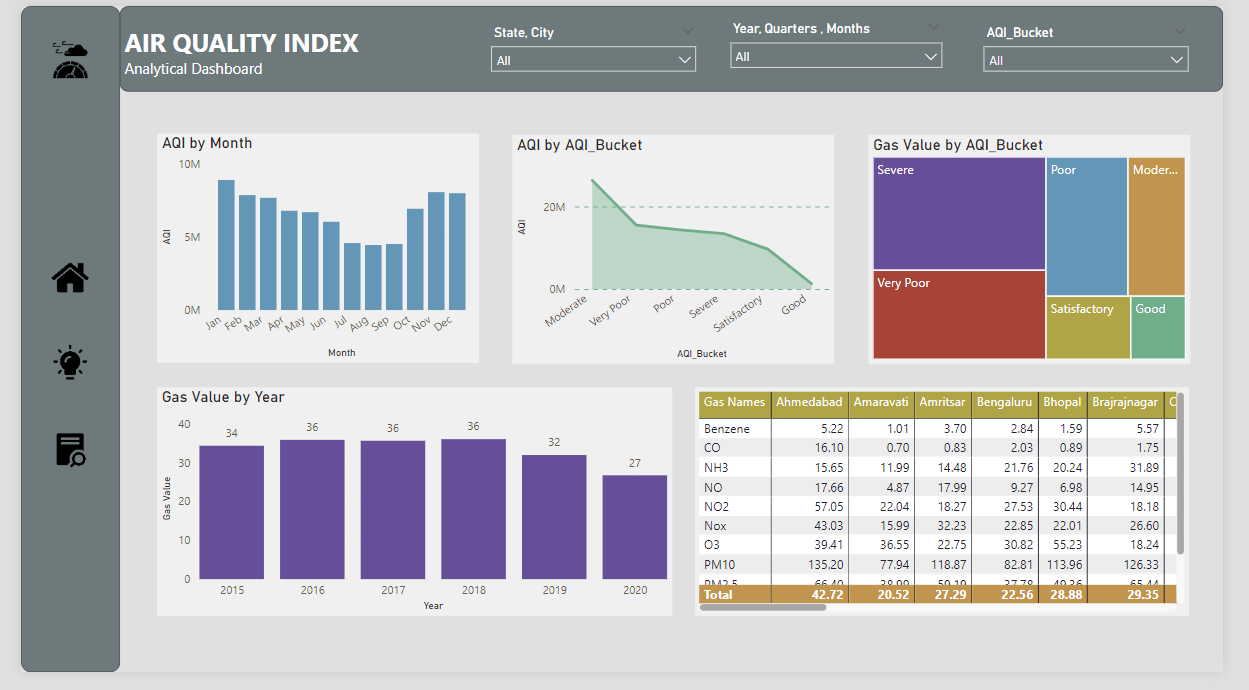

This screenshot's page, from the dashboard's own definition file:
{"tool":"powerbi","page":{"name":"Detailed View","canvas":[1300,720],"ordinal":2},"visuals":[{"type":"shape","box":[0,0,107.2,720.3],"z":0},{"type":"shape","box":[107.2,0,1192.8,92.8],"z":1000},{"type":"image","box":[28.4,32.4,50,51.4],"z":2000},{"type":"image","box":[28.8,268.8,50,50],"z":3000},{"type":"image","box":[28.8,360,50,51.2],"z":4000},{"type":"image","box":[28.8,455,50,50],"z":5000},{"type":"slicer","fields":{"Values":["Sheet1.State","Sheet1.City"]},"box":[495.1,11.1,249.4,70.4],"z":6000},{"type":"slicer","fields":{"Values":["Sheet1.Year","Sheet1.Quarters ","Sheet1.Months "]},"box":[756.8,11.1,249.4,70.4],"z":7000},{"type":"slicer","fields":{"Values":["Sheet1.AQI_Bucket"]},"box":[1027.2,11.1,249,70.4],"z":8000},{"type":"lineClusteredColumnComboChart","fields":{"Category":["Calendar.MonthSort"],"Y":["Sum(air_quality.AQI)"]},"box":[147.8,137.7,347.8,247.8],"z":9000},{"type":"stackedAreaChart","fields":{"Category":["air_quality.AQI_Bucket"],"Y":["Sum(air_quality.AQI)"]},"box":[530.4,139.1,347.8,247.8],"z":10000},{"type":"treemap","fields":{"Values":["measure.Average Gas Value"],"Group":["air_quality.AQI_Bucket"]},"box":[915.9,139.1,347.8,247.8],"z":11000},{"type":"textbox","box":[107.2,15.9,276.8,84.1],"z":12000},{"type":"clusteredColumnChart","fields":{"Category":["Calendar.Year"],"Y":["Avg(air_quality.Gas Value)"]},"box":[147.4,411.5,556.4,247.4],"z":13000},{"type":"pivotTable","fields":{"Rows":["air_quality.Gas Names"],"Columns":["air_quality.City"],"Values":["Avg(air_quality.Gas Value)"]},"box":[728.2,411.5,534.6,247.4],"z":14000},{"type":"textbox","box":[0,191.2,117.5,77.5],"z":15000}]}

Visuals, with their boxes on the page's 1300x720 design canvas (x1, y1, x2, y2). These are canvas units, not pixel positions in the 1249x690 screenshot, which may show the page scaled, cropped or inside an application window:
shape: box(0, 0, 107, 720)
shape: box(107, 0, 1300, 93)
image: box(28, 32, 78, 84)
image: box(29, 269, 79, 319)
image: box(29, 360, 79, 411)
image: box(29, 455, 79, 505)
slicer - Sheet1.State x Sheet1.City: box(495, 11, 744, 82)
slicer - Sheet1.Year x Sheet1.Quarters : box(757, 11, 1006, 82)
slicer - Sheet1.AQI_Bucket: box(1027, 11, 1276, 82)
lineClusteredColumnComboChart - Calendar.MonthSort x Sum(air_quality.AQI): box(148, 138, 496, 386)
stackedAreaChart - air_quality.AQI_Bucket x Sum(air_quality.AQI): box(530, 139, 878, 387)
treemap - measure.Average Gas Value x air_quality.AQI_Bucket: box(916, 139, 1264, 387)
textbox: box(107, 16, 384, 100)
clusteredColumnChart - Calendar.Year x Avg(air_quality.Gas Value): box(147, 412, 704, 659)
pivotTable - air_quality.Gas Names x air_quality.City: box(728, 412, 1263, 659)
textbox: box(0, 191, 118, 269)
